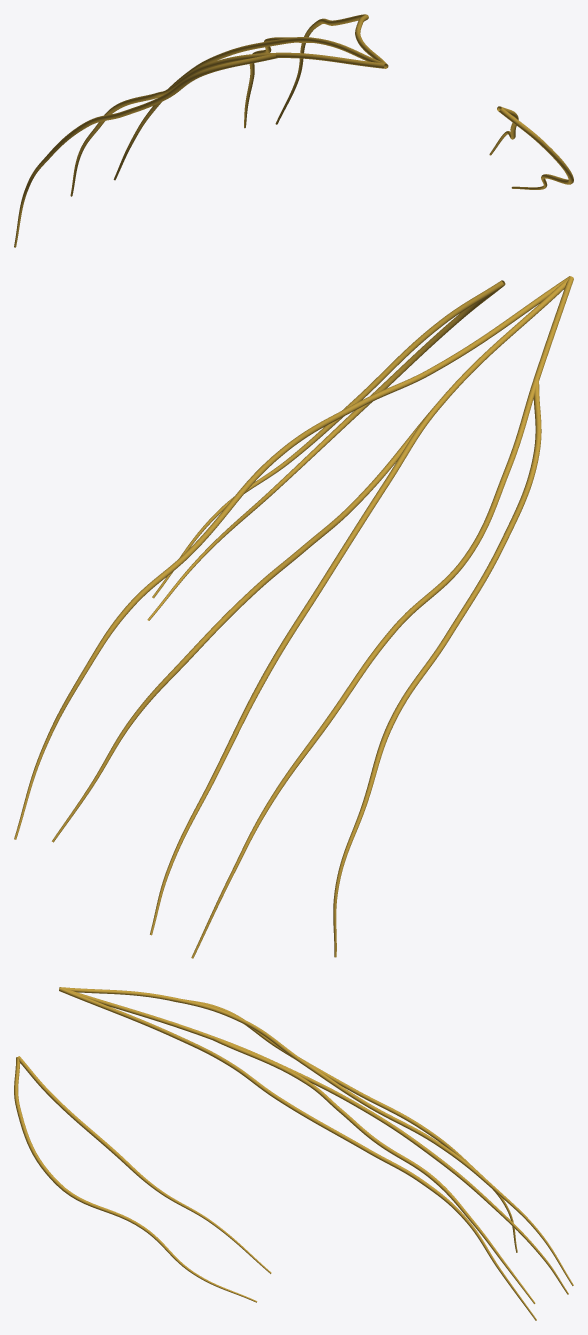
3 views of the same model, one above another, from view 1: azimuth 30°, elevation 25°; view 2: azimuth 150°, elevation 25°; view 3: azimuth 270°, elevation 25° (orthographic). The views are drawn at different scales.
Parts seen in each view (by area): view 1: 左侧桡神经指背神经; view 2: 左侧桡神经指背神经; view 3: 左侧桡神经指背神经.
Boxes of the visible parts, x1,y1,x2,y2 form: 左侧桡神经指背神经: (14,14,573,247); 左侧桡神经指背神经: (14,276,573,958); 左侧桡神经指背神经: (14,987,573,1320).
Bounding box in the file's own units: 0.1063 × 0.114 × 0.1954.
